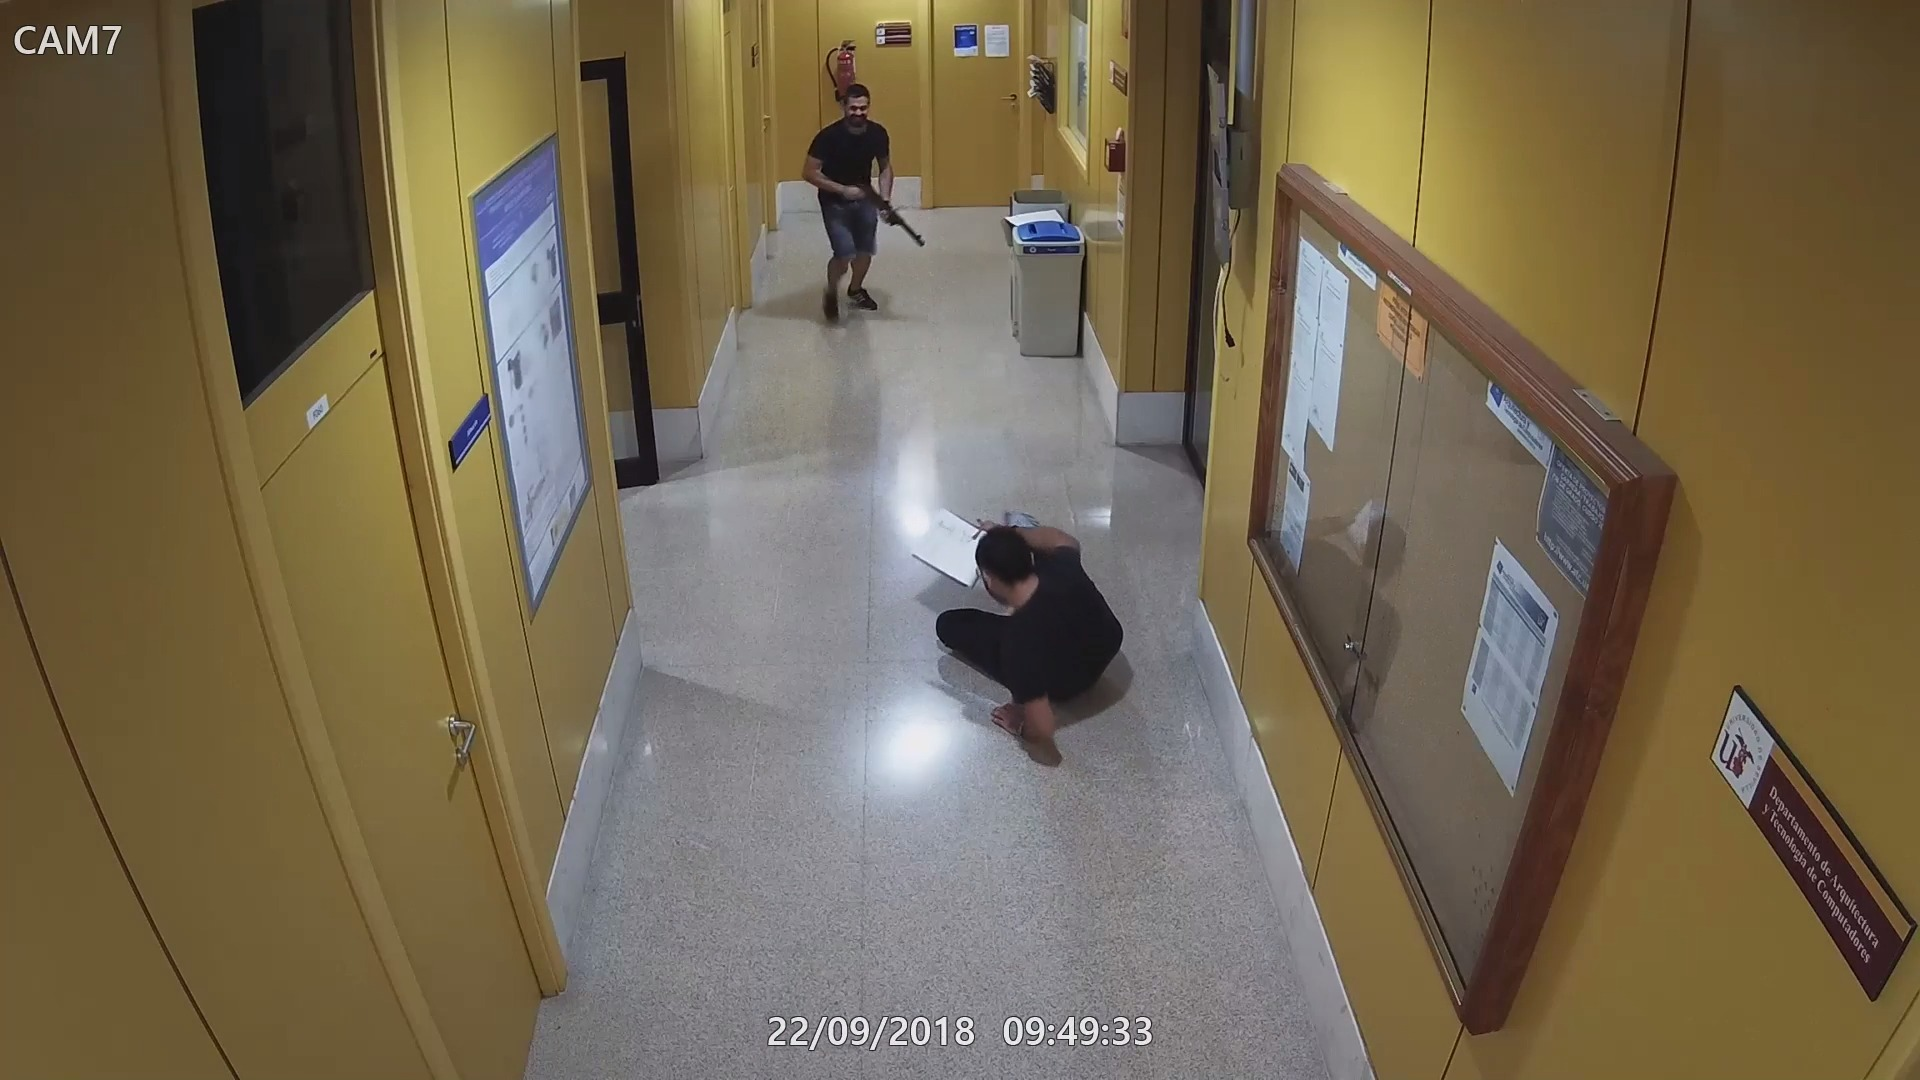Short_rifle: (851, 171, 924, 247)
